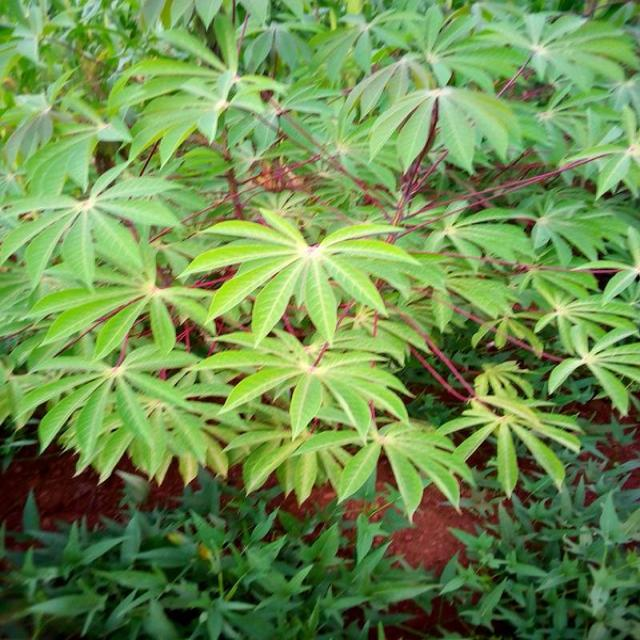cassava leaf: (2, 1, 639, 528), (178, 206, 428, 350)
